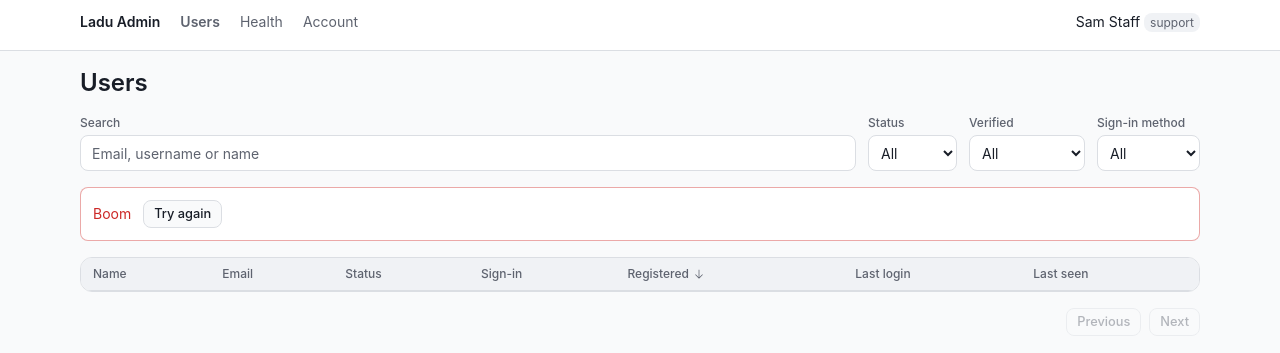
Test: UsersPage › shows the server error and retries
The image size is (1280, 353).
expect the message shows "Boom": met, box [93,205,131,222]
Step 1. Click the button "Try again" → point(183, 214), box [143,200,222,228]
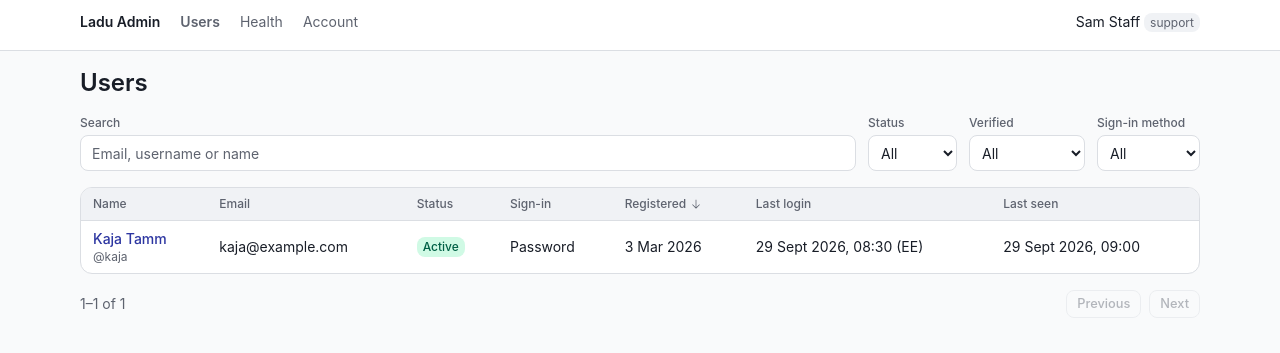
expect the link "Kaja Tamm" is shown: met, box [93,230,167,247]
expect the message "Boom Try again" is gone: met
